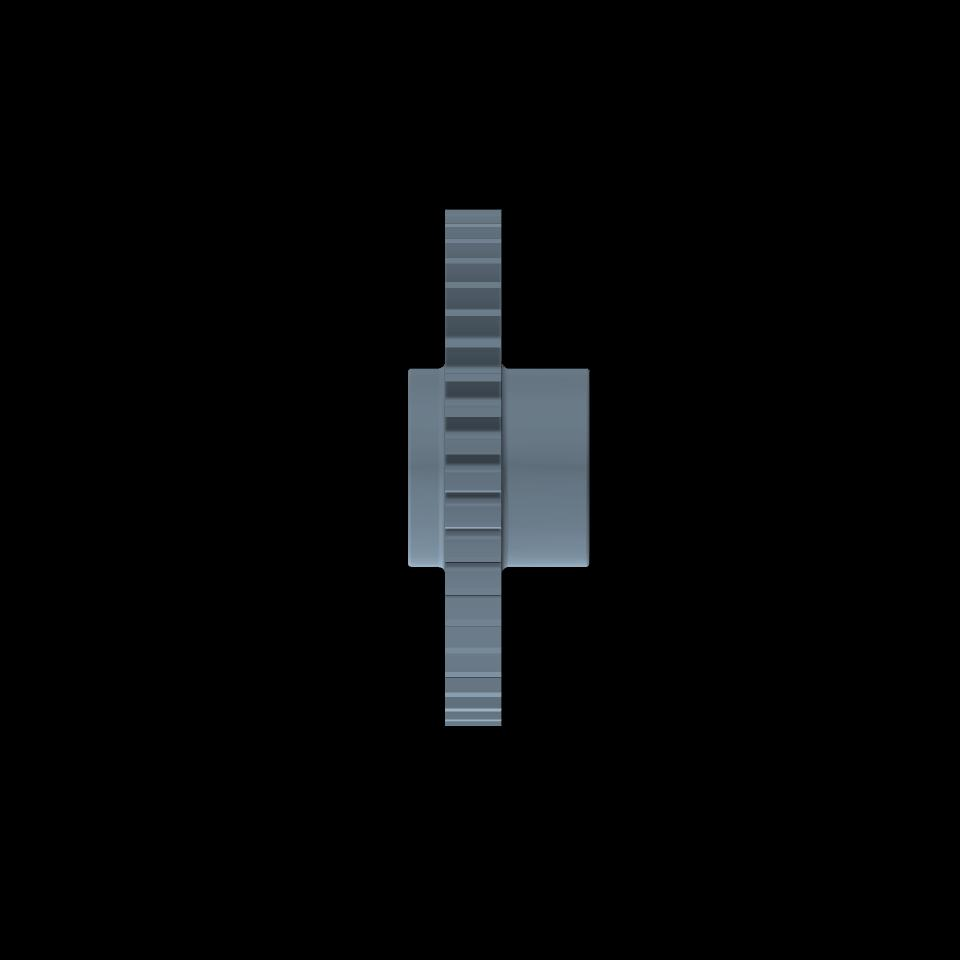Straight: (444, 209, 503, 725)
